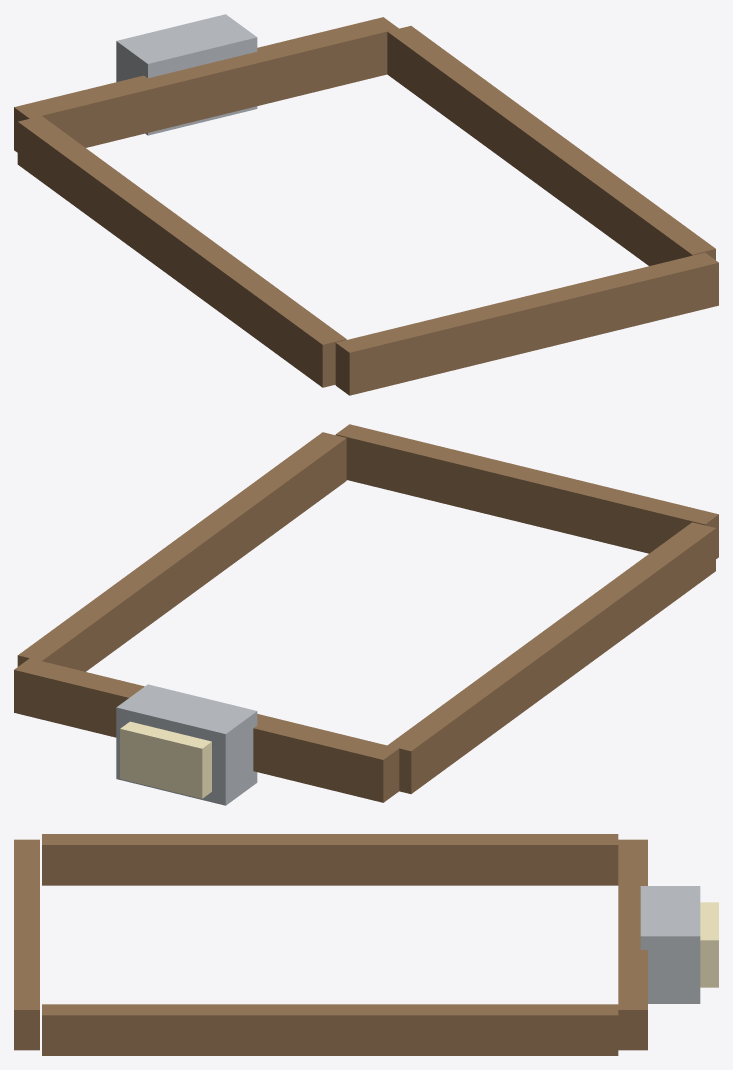
File: lanterna_testa.glb
The picture shows the model from 3 angles, top to bottom: view 1: azimuth 30°, elevation 25°; view 2: azimuth 150°, elevation 25°; view 3: azimuth 270°, elevation 25°; orthographic projection. The views are drawn at different scales.
Parts seen in each view (by area): view 1: lanterna_testa; view 2: lanterna_testa; view 3: lanterna_testa.
Part boxes in pixels (box(x1,y1,x2,y2)): lanterna_testa: box(14, 14, 718, 395); lanterna_testa: box(14, 424, 718, 805); lanterna_testa: box(14, 834, 718, 1055).
Bounding box in the file's own units: 0.575 × 0.1 × 0.9445.
